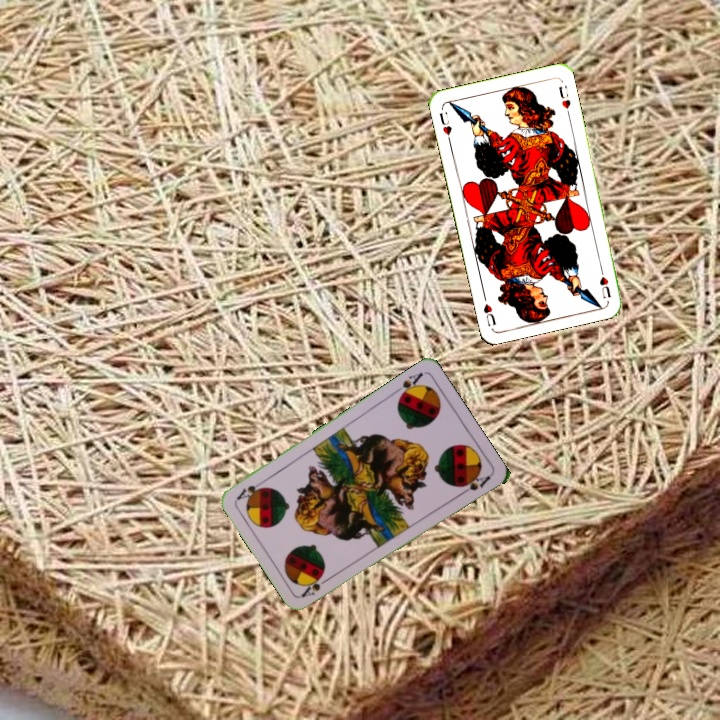HU: (595, 262, 614, 301), (435, 108, 454, 145)
SA: (389, 368, 426, 402), (297, 572, 334, 599)
